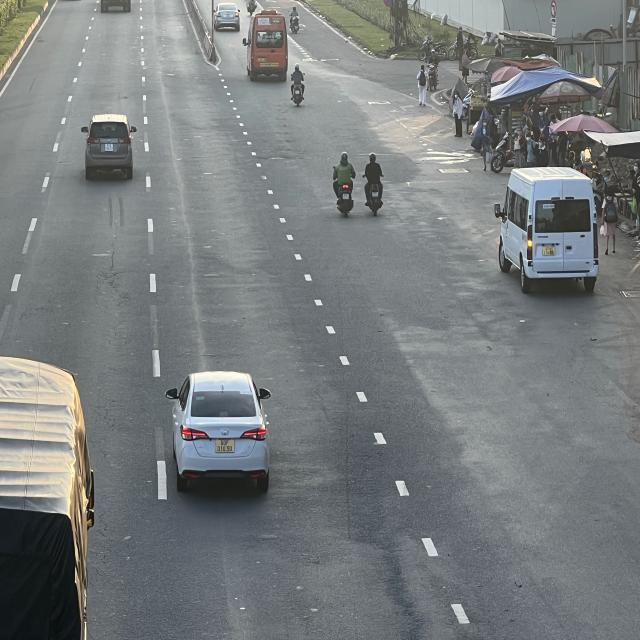car: (169, 372, 271, 494), (84, 114, 139, 180)
van: (496, 164, 602, 294), (243, 12, 287, 82)
